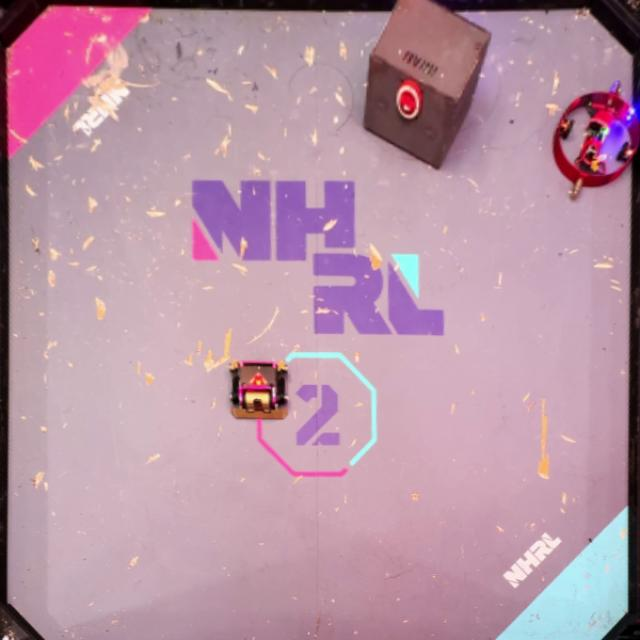housebot: (361, 0, 492, 170)
robot: (552, 79, 640, 199), (228, 360, 289, 420)
